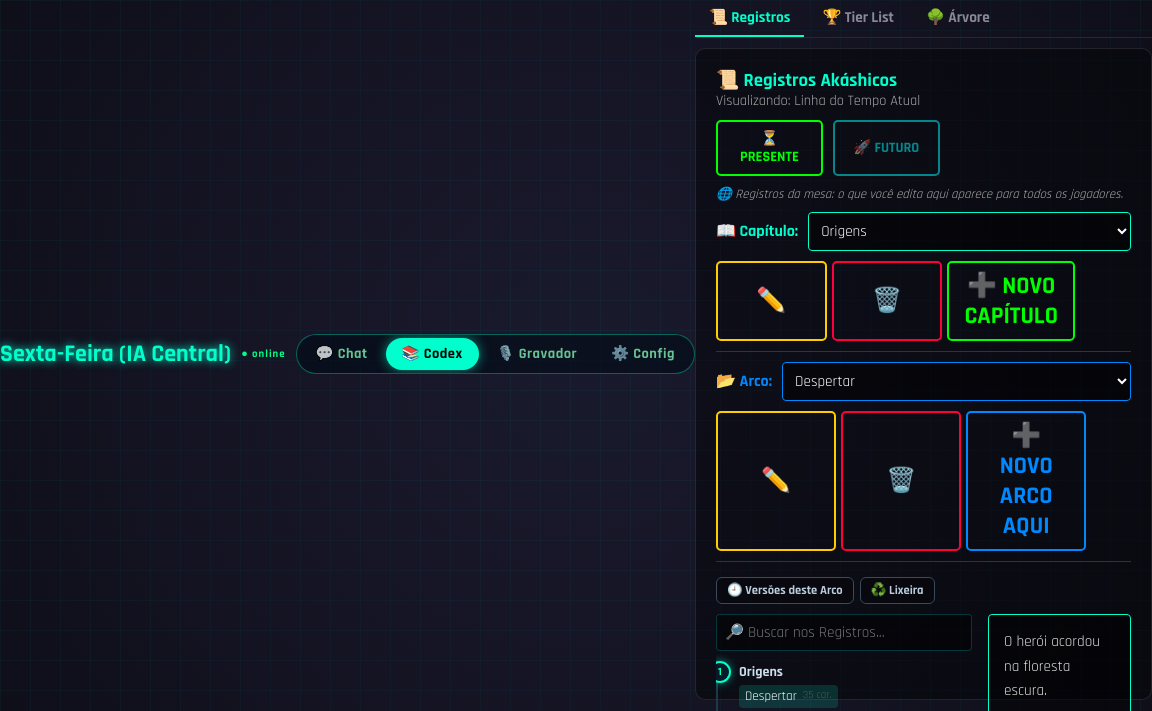
Test: VersoesArcoModal › lista versoes (consulta o arco ativo), selecionando a mais nova e mostrando a previa
This screenshot has width=1152, height=711.
Click the button "🕘 Versões deste Arco": click(785, 591) [716,577,854,604]
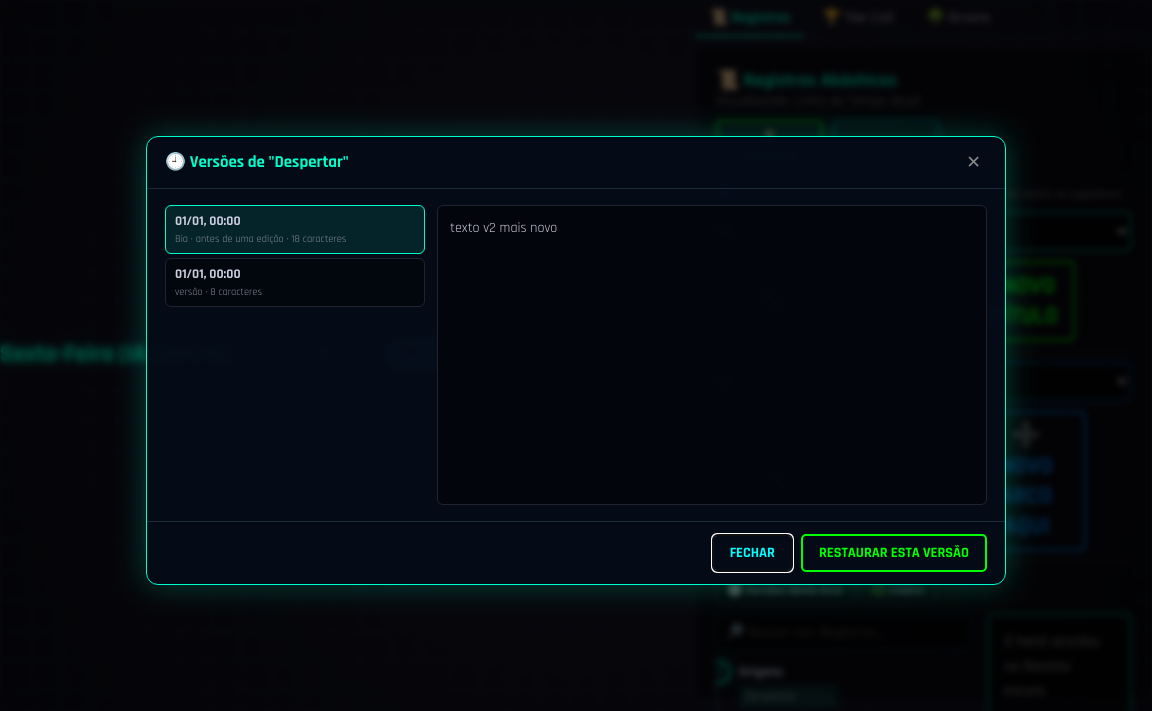
Expected: the number of buttons with class "sexta-versao" is 2, [165,204,425,254]; [165,258,425,306]
Expected: the button with class "sexta-versao" shows "antes de uma edição", [165,204,425,254]
Expected: the text with class "sexta-versao-previa" reads "texto v2 mais novo", [450,218,557,236]
